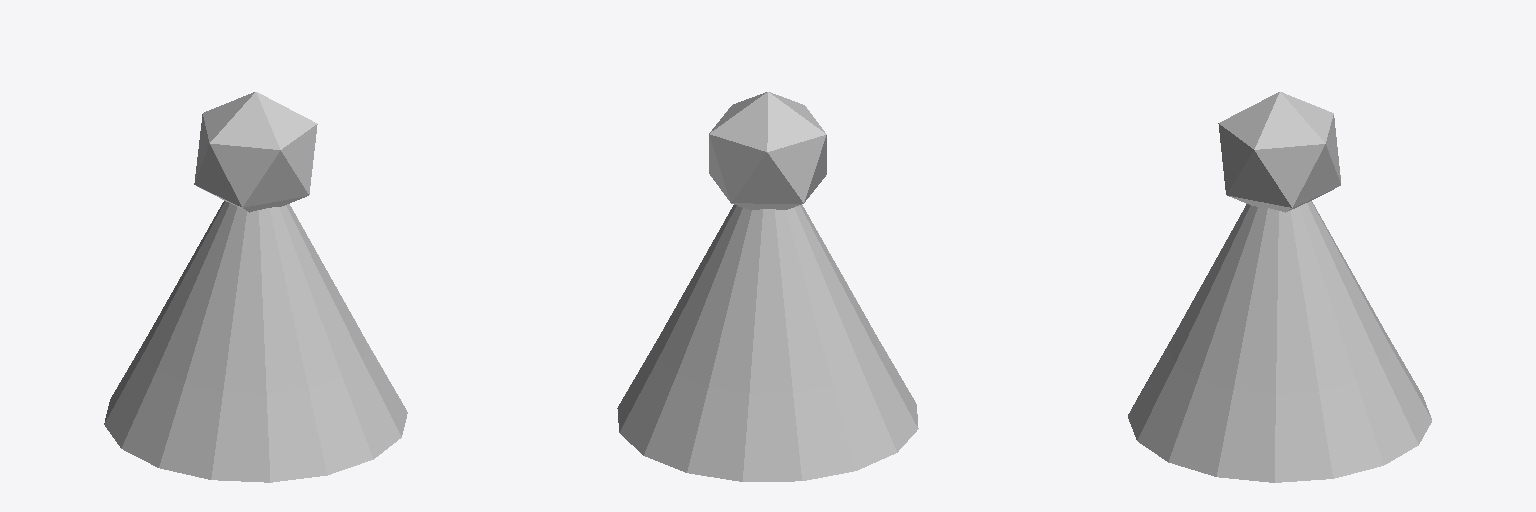
Rendered from birthday_hat.obj.
3 renders of one model, left to right at view 1: azimuth 30°, elevation 25°; view 2: azimuth 150°, elevation 25°; view 3: azimuth 270°, elevation 25°, orthographic.
Visible parts, largest first — view 1: Cone; view 2: Cone; view 3: Cone.
Boxes of the visible parts, <box> form: Cone: <box>104,92,407,482</box>; Cone: <box>617,92,918,481</box>; Cone: <box>1128,92,1431,482</box>.
Bounding box in the file's own units: 1.19 × 1.41 × 1.19.